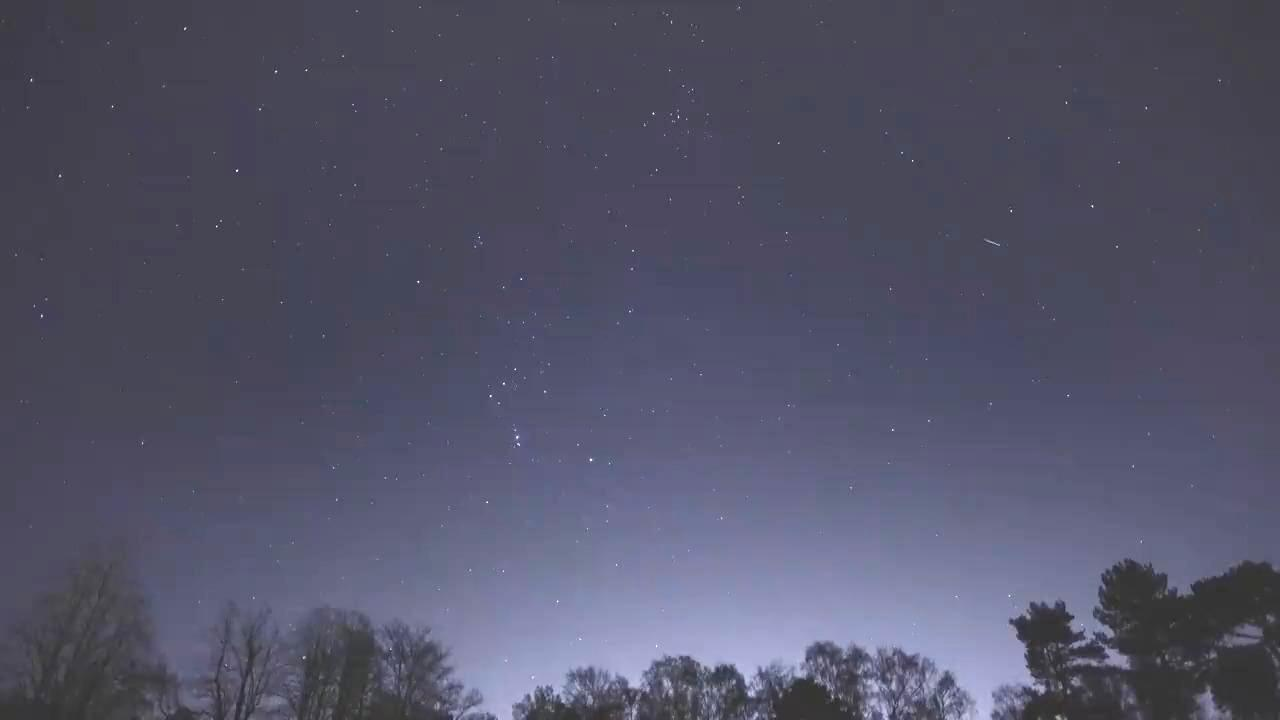meteorite: (967, 232, 1020, 253)
